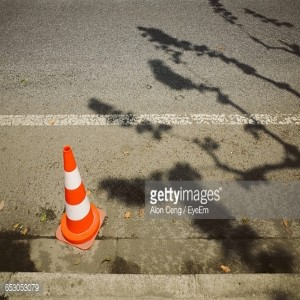traffic cone: (55, 145, 106, 250)
